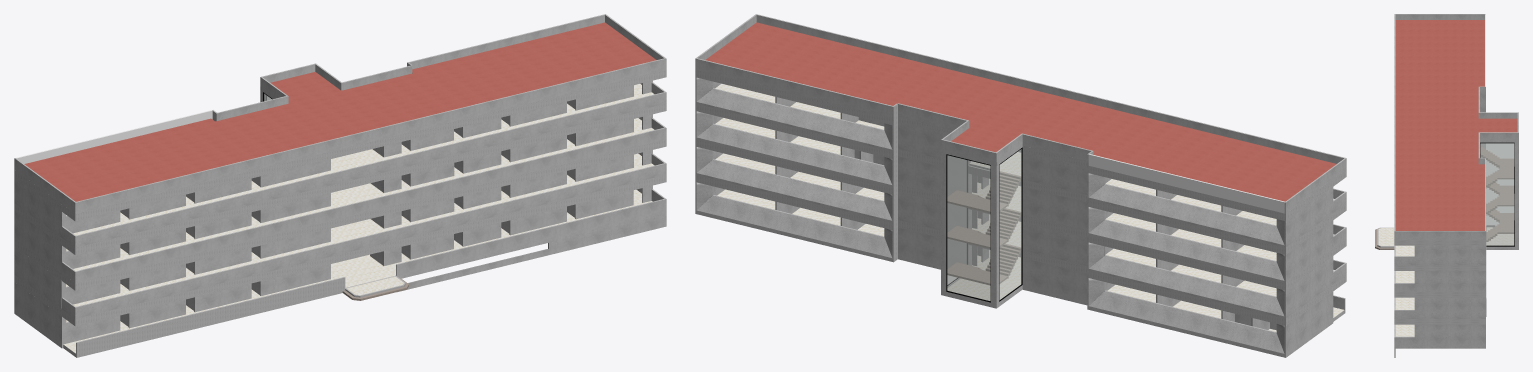
The model's file is MUROS.fbx.
3 renders of one model, left to right at view 1: azimuth 30°, elevation 25°; view 2: azimuth 150°, elevation 25°; view 3: azimuth 270°, elevation 25°, orthographic. The views are drawn at different scales.
Parts seen in each view (by area): view 1: Group1, Unir, Group25, Group102, Group44, Group157, FALDON1, FALDON, FALDON2, FALDON3, Group156, Unir4 (+18 smaller); view 2: Group1, Unir, Group201, Group124, FALDON1, FALDON2, FALDON3, FALDON, ENTREPISO1, Group166, Group158, ENTREPISO (+32 smaller); view 3: Group1, Group185, Unir, Group148, Group84, Group40, Group19, Group193, Group124, FALDON, FALDON1, FALDON2 (+21 smaller).
Part boxes in pixels (x1=…): Group1: x1=24, y1=22, x2=656, y2=201; Unir: x1=14, y1=14, x2=666, y2=213; Group25: x1=76, y1=91, x2=666, y2=247; Group102: x1=76, y1=163, x2=666, y2=318; Group44: x1=76, y1=127, x2=666, y2=282; Group157: x1=396, y1=199, x2=666, y2=292; FALDON1: x1=14, y1=103, x2=666, y2=254; FALDON: x1=14, y1=70, x2=666, y2=221; FALDON2: x1=14, y1=139, x2=666, y2=290; FALDON3: x1=14, y1=174, x2=666, y2=326; Group156: x1=76, y1=277, x2=345, y2=357; Unir4: x1=14, y1=159, x2=329, y2=236; Group1: x1=705, y1=22, x2=1336, y2=201; Unir: x1=695, y1=14, x2=1346, y2=213; Group201: x1=947, y1=155, x2=990, y2=300; Group124: x1=696, y1=189, x2=1344, y2=357; FALDON1: x1=695, y1=103, x2=1346, y2=254; FALDON2: x1=695, y1=139, x2=1346, y2=290; FALDON3: x1=695, y1=174, x2=1346, y2=325; FALDON: x1=695, y1=70, x2=1346, y2=221; ENTREPISO1: x1=696, y1=153, x2=1334, y2=318; Group166: x1=1089, y1=291, x2=1284, y2=353; Group158: x1=697, y1=195, x2=891, y2=257; ENTREPISO: x1=696, y1=118, x2=1334, y2=282; Group1: x1=1395, y1=20, x2=1517, y2=230; Group185: x1=1480, y1=143, x2=1514, y2=245; Unir: x1=1394, y1=14, x2=1485, y2=239; Group148: x1=1414, y1=324, x2=1485, y2=348; Group84: x1=1413, y1=297, x2=1485, y2=318; Group40: x1=1414, y1=271, x2=1485, y2=291; Group19: x1=1415, y1=245, x2=1485, y2=265; Group193: x1=1480, y1=143, x2=1513, y2=225; Group124: x1=1395, y1=227, x2=1514, y2=336; FALDON: x1=1394, y1=240, x2=1485, y2=245; FALDON1: x1=1394, y1=265, x2=1485, y2=270; FALDON2: x1=1394, y1=292, x2=1485, y2=297.
Bounding box in the file's own units: 66.04 × 17.93 × 18.49.
